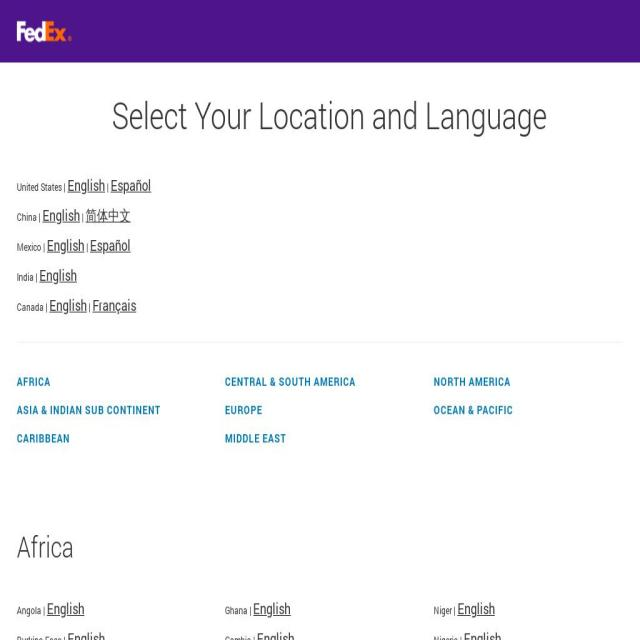button: (16, 0, 106, 62), (17, 404, 207, 416), (225, 404, 415, 416), (433, 404, 623, 416), (17, 376, 207, 387), (17, 433, 207, 444), (225, 376, 415, 387), (225, 433, 415, 444), (433, 376, 623, 387)
heading: (17, 527, 623, 565), (27, 96, 632, 133)
image: (17, 20, 72, 42)
link: (86, 205, 130, 225), (92, 295, 136, 315), (90, 235, 131, 255), (111, 175, 151, 195), (67, 175, 105, 195), (42, 205, 80, 225), (39, 265, 77, 285), (49, 295, 87, 315), (253, 598, 291, 618), (457, 598, 495, 618), (47, 235, 84, 255), (47, 598, 84, 618), (67, 628, 105, 640), (257, 628, 295, 640), (463, 628, 501, 640)
text: (17, 180, 67, 193), (17, 603, 47, 617), (17, 300, 49, 313), (225, 603, 254, 617), (17, 240, 47, 253), (17, 633, 67, 640), (433, 603, 458, 617), (17, 210, 42, 223), (17, 270, 39, 283), (225, 633, 257, 640), (433, 633, 464, 640), (105, 180, 111, 193), (80, 210, 86, 223), (84, 240, 90, 253), (87, 300, 92, 313)
